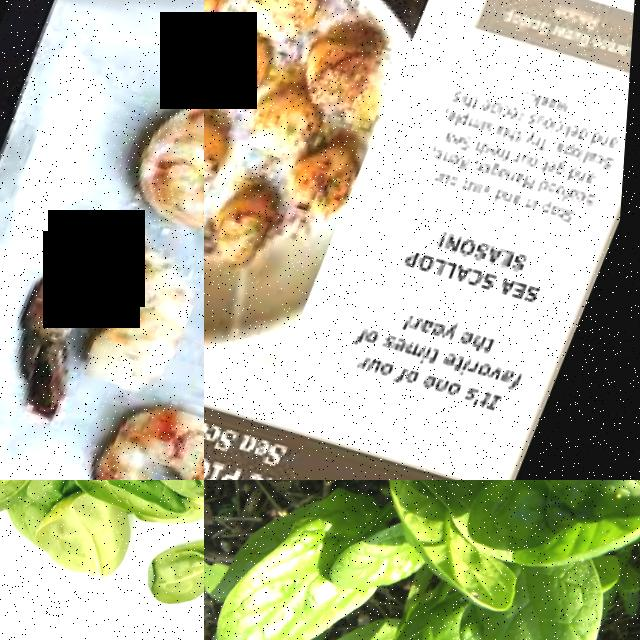sea scallops: (291, 28, 387, 126), (205, 182, 289, 283), (242, 88, 332, 173), (204, 32, 276, 124), (238, 0, 335, 56), (204, 112, 238, 203)
shrimp: (0, 215, 204, 457), (113, 60, 204, 267), (60, 385, 204, 480)
spinach: (214, 521, 349, 640), (26, 483, 150, 597), (474, 480, 620, 566), (496, 568, 623, 640), (329, 520, 426, 607), (135, 516, 204, 635)
